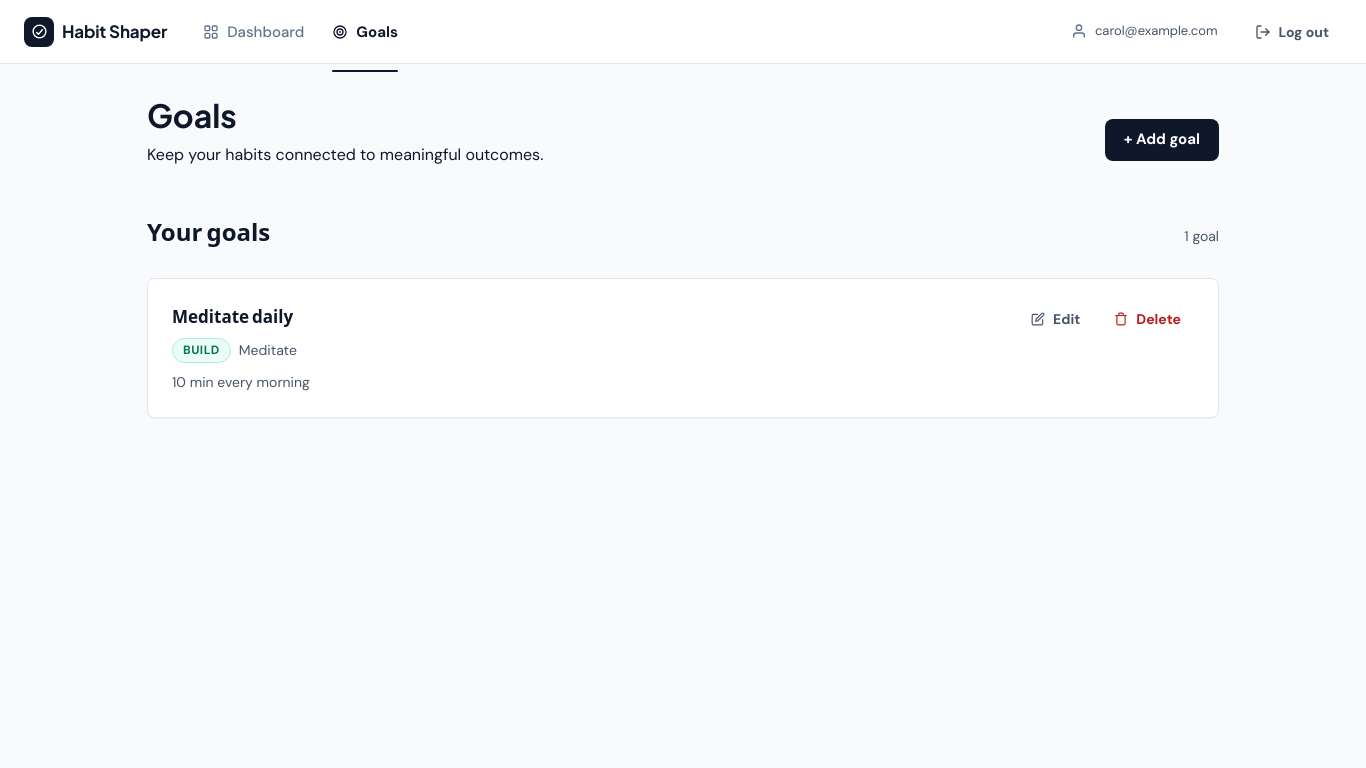
Test: Phase 9 goals › 9. dialog closes via X
Expected: the heading "Goals" is shown, x1=147 y1=95 x2=237 y2=135
Click the button "+ Add goal" at [1162, 140], box x1=1105 y1=119 x2=1219 y2=161
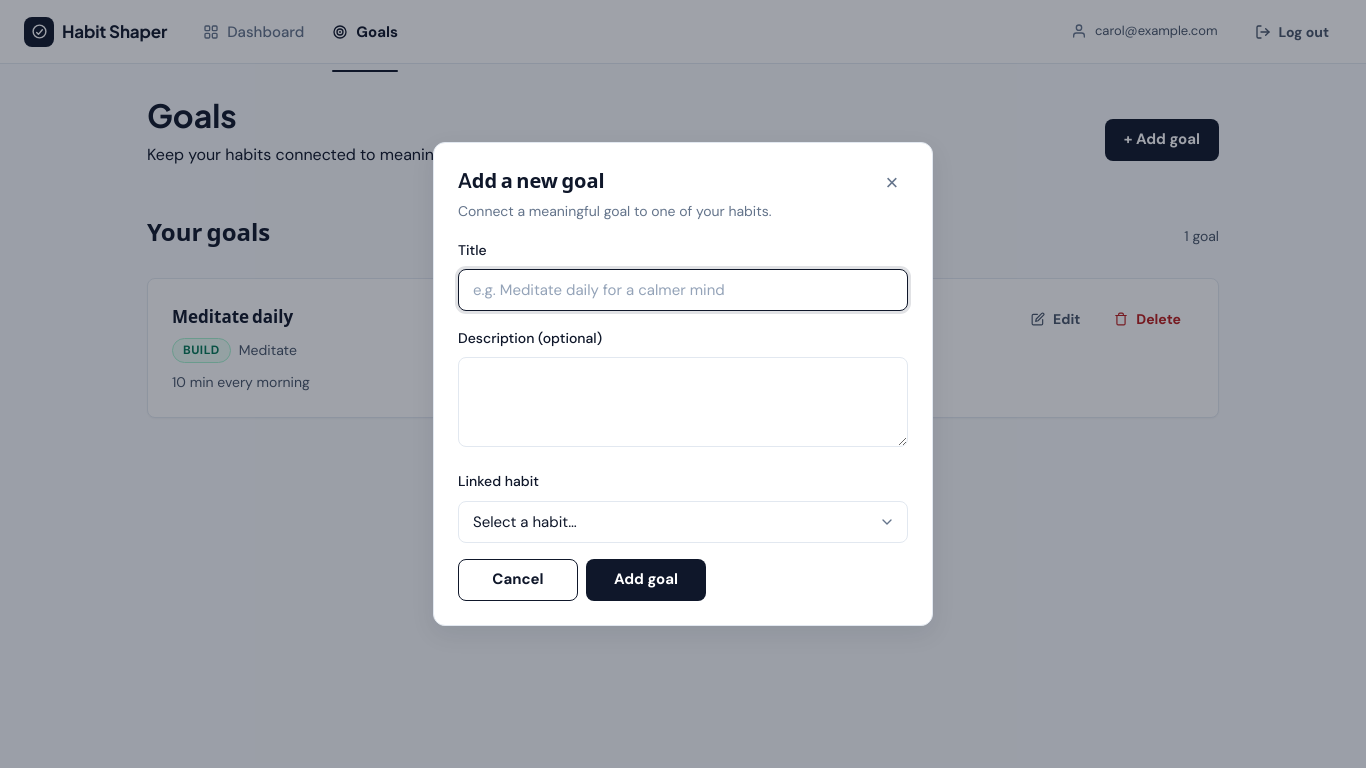
Click the button named "close dialog" at [892, 183], box x1=876 y1=167 x2=908 y2=199
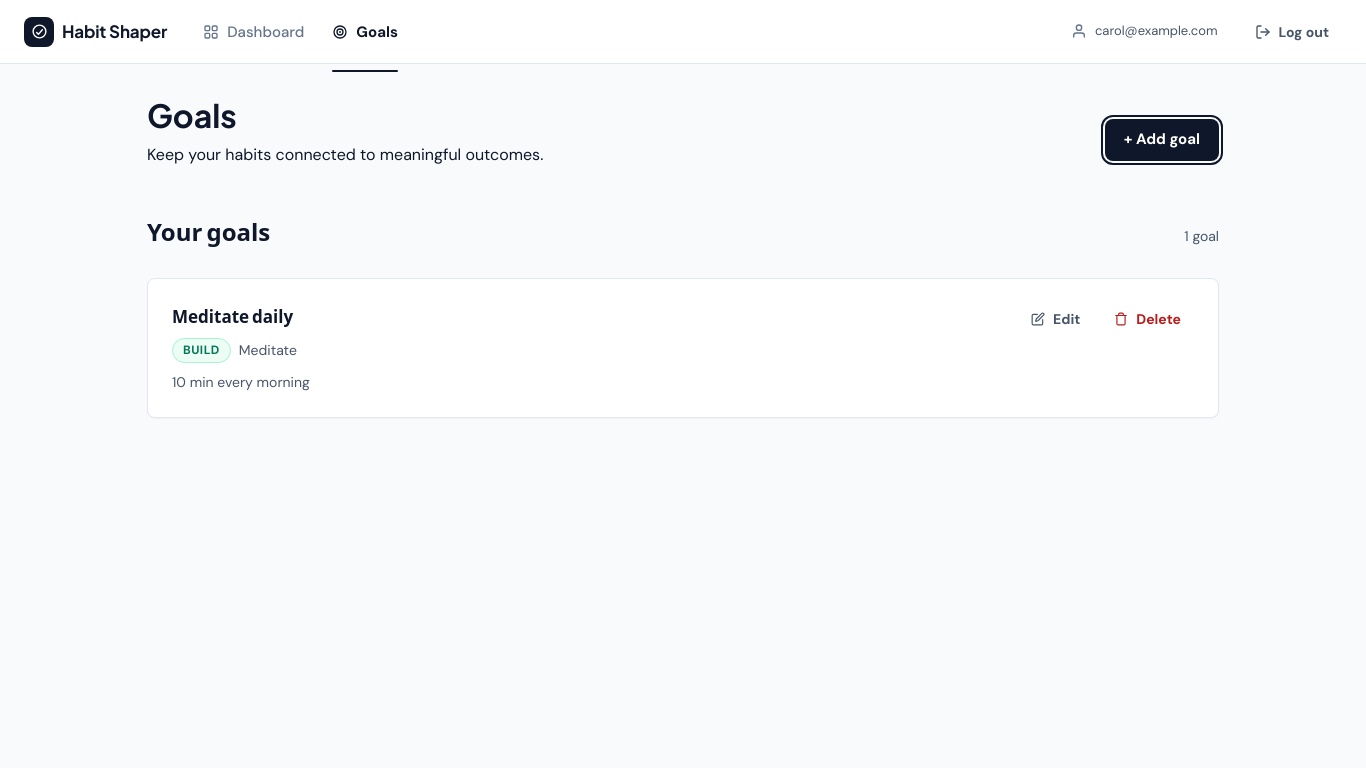
Now the dialog is gone
